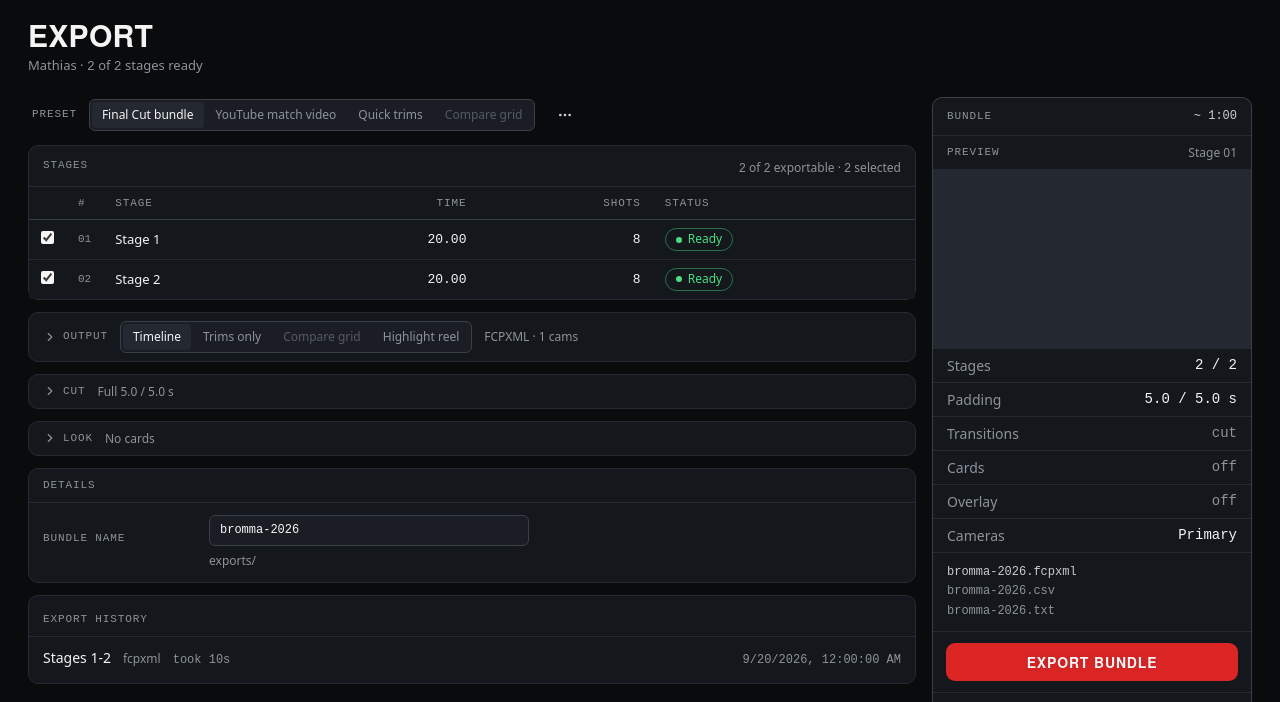
Test: Export presets › applying a preset with another mode switches the mode
Expected: the button "Export bundle" is shown, [947,644,1237,680]
Expected: the checkbox named "Stage 2" is checked, [41,271,54,284]
Click the button "Quick trims".
click(391, 114)  # box [348,102,433,128]
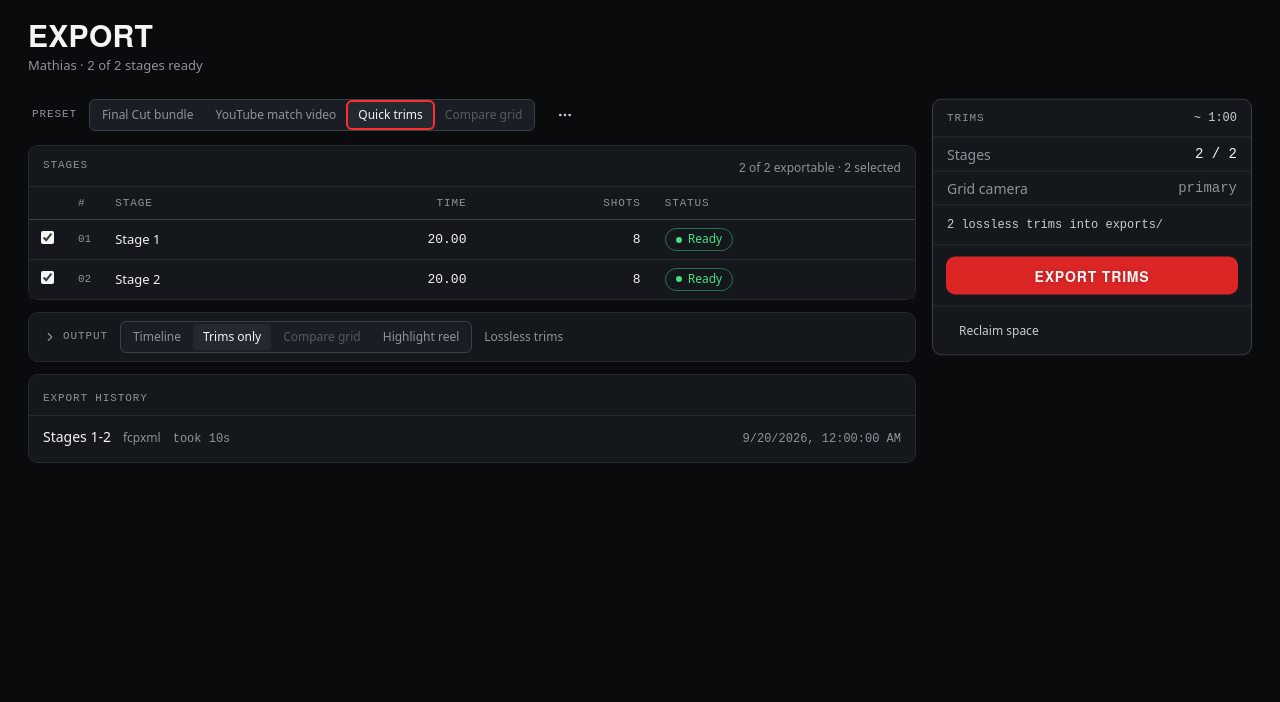
Now the button "Export trims" is shown, box [947,258,1237,294]
